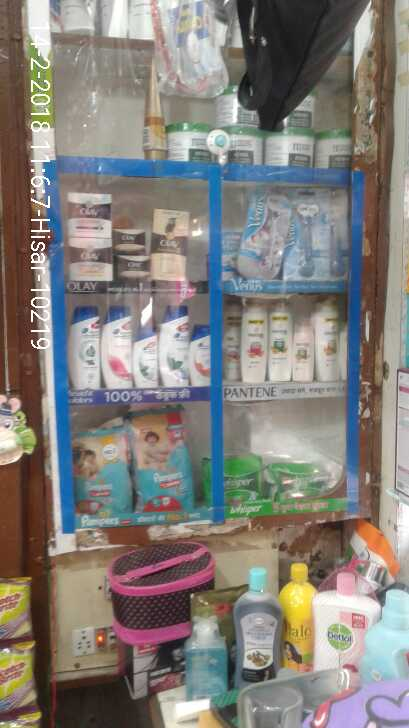venus: (290, 189, 331, 280), (247, 189, 287, 278)
